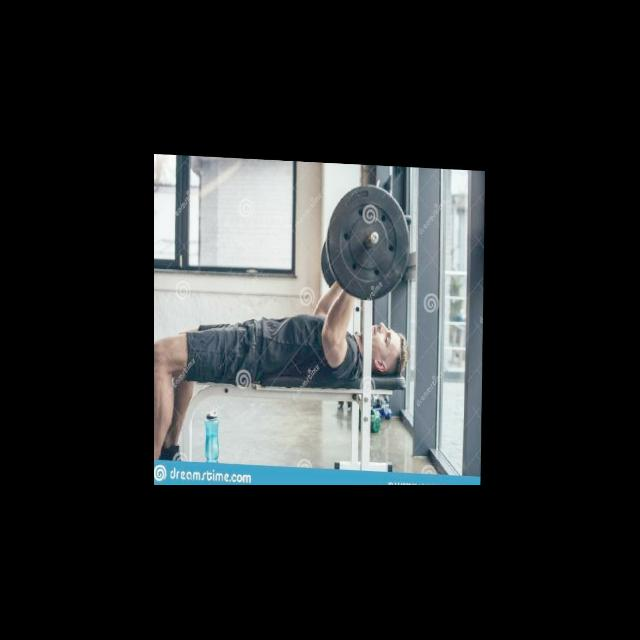barbell: (327, 176, 412, 301)
